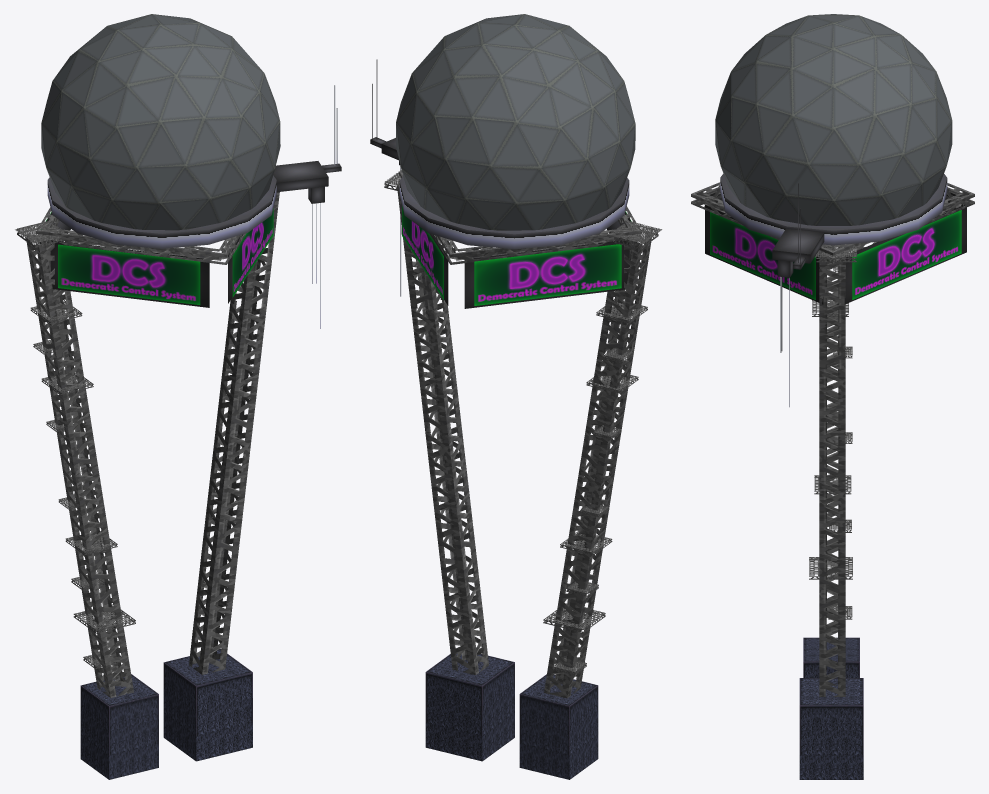
Rendered from radar_200m_body.DAE.
3 renders of one model, left to right at view 1: azimuth 30°, elevation 25°; view 2: azimuth 150°, elevation 25°; view 3: azimuth 270°, elevation 25°, orthographic.
Parts seen in each view (by area): view 1: Box03-Pivot; view 2: Box03-Pivot; view 3: Box03-Pivot.
Boxes of the visible parts, x1,y1,x2,y2 form: Box03-Pivot: [15, 14, 341, 779]; Box03-Pivot: [370, 14, 662, 779]; Box03-Pivot: [691, 14, 974, 779].
Bounding box in the file's own units: 90.39 × 211 × 75.14.
